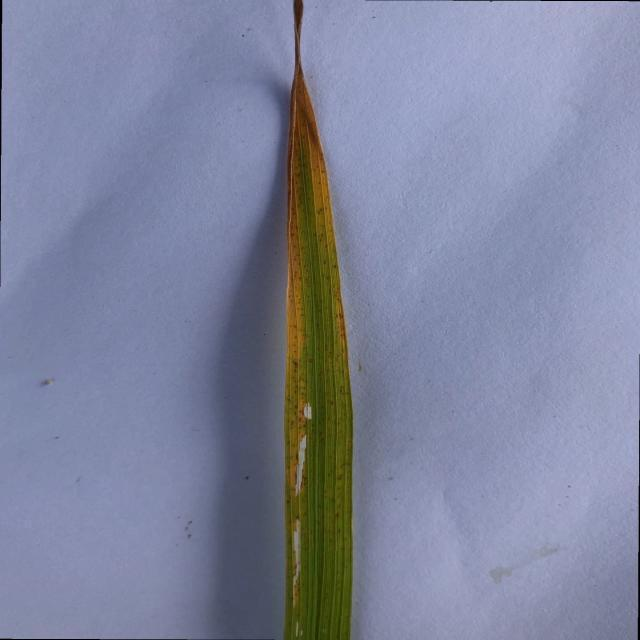Rice Tungro: (288, 16, 355, 629)
